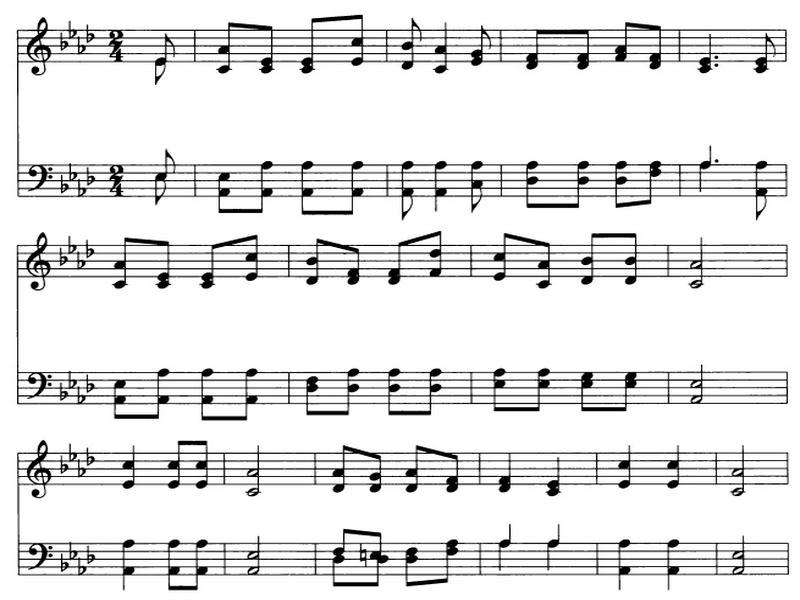B: (727, 434, 767, 506), (678, 232, 716, 295), (233, 534, 272, 580), (242, 445, 268, 502), (689, 360, 713, 417), (727, 534, 753, 582)
Bem: (57, 176, 73, 199), (77, 560, 91, 584), (84, 238, 99, 258), (64, 543, 78, 563), (57, 246, 69, 269), (83, 377, 99, 394), (57, 454, 68, 478), (58, 552, 69, 576), (87, 543, 97, 569), (86, 164, 94, 195), (65, 234, 77, 254), (74, 41, 86, 60), (69, 364, 77, 392), (67, 162, 78, 182), (86, 445, 96, 467), (56, 34, 68, 52), (57, 387, 72, 401), (77, 391, 86, 414), (69, 445, 79, 462), (64, 23, 76, 35), (77, 466, 86, 480), (78, 186, 85, 203), (86, 27, 93, 43), (77, 257, 85, 271)
C: (188, 352, 220, 428), (252, 138, 282, 219), (236, 347, 264, 427), (250, 13, 284, 78), (341, 4, 373, 71), (108, 224, 136, 298), (599, 155, 633, 212), (149, 355, 176, 426), (481, 231, 516, 284), (297, 4, 322, 76), (578, 229, 607, 290), (105, 367, 135, 425), (465, 18, 497, 72), (378, 362, 407, 420), (159, 436, 187, 496), (397, 9, 423, 73), (300, 233, 328, 292), (420, 363, 448, 422), (213, 12, 238, 78), (336, 359, 361, 425), (399, 439, 429, 494), (212, 154, 238, 217), (523, 367, 555, 418), (147, 234, 176, 290), (643, 21, 669, 79), (343, 157, 367, 219), (618, 226, 642, 288), (159, 534, 183, 595), (527, 150, 552, 207), (466, 157, 491, 214), (361, 441, 387, 494), (423, 230, 449, 281), (570, 154, 592, 213), (751, 28, 779, 74), (198, 241, 222, 294), (617, 367, 641, 419), (572, 366, 598, 414), (522, 24, 549, 70), (244, 228, 264, 290), (613, 13, 634, 70), (441, 448, 467, 494), (437, 535, 460, 587), (301, 152, 319, 217), (329, 440, 350, 494), (152, 28, 183, 64), (489, 366, 509, 419), (363, 556, 397, 587), (295, 373, 319, 416), (575, 24, 595, 75), (384, 234, 404, 285), (195, 534, 211, 594), (535, 236, 552, 292), (646, 157, 665, 205), (193, 440, 210, 493), (156, 148, 183, 181), (326, 522, 353, 554), (401, 541, 419, 586), (748, 187, 773, 219), (346, 239, 361, 289), (397, 188, 417, 221), (151, 54, 170, 83), (150, 174, 166, 204), (332, 555, 346, 588), (372, 532, 386, 558)
CF: (21, 356, 54, 414), (21, 147, 55, 198), (25, 533, 53, 574)
CS: (25, 226, 56, 299), (24, 4, 53, 82), (28, 434, 55, 501)
N: (424, 147, 452, 214), (657, 439, 691, 491), (657, 535, 689, 590), (112, 527, 138, 592), (613, 531, 634, 593), (542, 453, 567, 504), (614, 444, 639, 491), (433, 16, 451, 76), (119, 444, 139, 496), (693, 24, 712, 77), (492, 452, 514, 496), (497, 517, 522, 547), (546, 518, 566, 549), (543, 539, 562, 568), (696, 160, 711, 196), (700, 135, 715, 169), (497, 538, 511, 574)
SOS: (356, 544, 372, 565)
